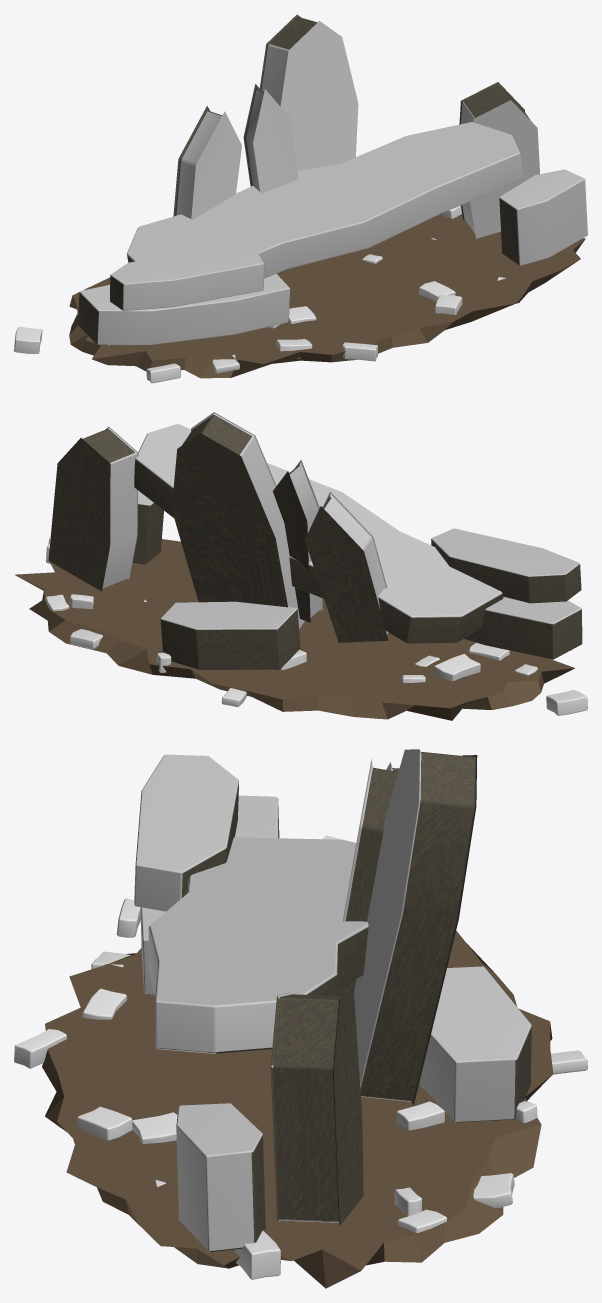
File: SM_GIA_BloodAxeCairnSlabCluster_A01_VolumeProjection.fbx
3 renders of one model, top to bottom at view 1: azimuth 30°, elevation 25°; view 2: azimuth 150°, elevation 25°; view 3: azimuth 270°, elevation 25°, orthographic. The views are drawn at different scales.
Visible parts, largest first — view 1: A1_Turnaround_AshMudBase, A1_Turnaround_MainFallenPaintedSlab, A1_Turnaround_RearTallBrokenSlab, A1_Turnaround_LeftFrontStackBase, A1_Turnaround_LeftFrontStackCap, A1_Turnaround_RightSupportStone, A1_Turnaround_LeftRearShard, A1_Turnaround_RightRawhideUpright, A1_Turnaround_CenterNarrowShard, A1_Turnaround_Pebble_41, A1_Turnaround_Pebble_36, A1_Turnaround_Pebble_20; view 2: A1_Turnaround_AshMudBase, A1_Turnaround_RearTallBrokenSlab, A1_Turnaround_MainFallenPaintedSlab, A1_Turnaround_RightRawhideUpright, A1_Turnaround_BackRootStone, A1_Turnaround_LeftRearShard, A1_Turnaround_LeftFrontStackCap, A1_Turnaround_LeftFrontStackBase, A1_Turnaround_CenterNarrowShard, A1_Turnaround_RightSupportStone, A1_Turnaround_Pebble_41, A1_Turnaround_Pebble_29 (+2 smaller); view 3: A1_Turnaround_AshMudBase, A1_Turnaround_MainFallenPaintedSlab, A1_Turnaround_RearTallBrokenSlab, A1_Turnaround_RightRawhideUpright, A1_Turnaround_BackRootStone, A1_Turnaround_LeftFrontStackCap, A1_Turnaround_RightSupportStone, A1_Turnaround_CenterNarrowShard, A1_Turnaround_LeftFrontStackBase, A1_Turnaround_Pebble_32, A1_Turnaround_Pebble_42, A1_Turnaround_Pebble_36 (+7 smaller).
Part boxes in pixels (x1,y1,x2,y2): A1_Turnaround_AshMudBase: (69, 213, 585, 378); A1_Turnaround_MainFallenPaintedSlab: (127, 122, 524, 278); A1_Turnaround_RearTallBrokenSlab: (259, 14, 358, 171); A1_Turnaround_LeftFrontStackBase: (78, 273, 290, 344); A1_Turnaround_LeftFrontStackCap: (110, 249, 264, 310); A1_Turnaround_RightSupportStone: (499, 169, 587, 265); A1_Turnaround_LeftRearShard: (173, 106, 241, 220); A1_Turnaround_RightRawhideUpright: (459, 82, 539, 238); A1_Turnaround_CenterNarrowShard: (243, 84, 298, 194); A1_Turnaround_Pebble_41: (14, 326, 42, 353); A1_Turnaround_Pebble_36: (342, 342, 377, 361); A1_Turnaround_Pebble_20: (146, 363, 180, 383); A1_Turnaround_AshMudBase: (14, 539, 575, 720); A1_Turnaround_RearTallBrokenSlab: (171, 412, 304, 628); A1_Turnaround_MainFallenPaintedSlab: (134, 423, 503, 643); A1_Turnaround_RightRawhideUpright: (48, 426, 138, 591); A1_Turnaround_BackRootStone: (160, 601, 300, 669); A1_Turnaround_LeftRearShard: (305, 491, 388, 642); A1_Turnaround_LeftFrontStackCap: (431, 528, 581, 603); A1_Turnaround_LeftFrontStackBase: (464, 597, 582, 659); A1_Turnaround_CenterNarrowShard: (272, 460, 323, 622); A1_Turnaround_RightSupportStone: (133, 490, 163, 564); A1_Turnaround_Pebble_41: (546, 690, 587, 715); A1_Turnaround_Pebble_29: (434, 654, 480, 680); A1_Turnaround_AshMudBase: (42, 930, 553, 1288); A1_Turnaround_MainFallenPaintedSlab: (148, 837, 368, 1053); A1_Turnaround_RearTallBrokenSlab: (353, 749, 477, 1105); A1_Turnaround_RightRawhideUpright: (270, 992, 363, 1225); A1_Turnaround_BackRootStone: (419, 966, 531, 1122); A1_Turnaround_LeftFrontStackCap: (134, 754, 238, 911); A1_Turnaround_RightSupportStone: (176, 1103, 265, 1252); A1_Turnaround_CenterNarrowShard: (338, 759, 398, 996); A1_Turnaround_LeftFrontStackBase: (140, 795, 279, 994); A1_Turnaround_Pebble_32: (234, 1230, 280, 1279); A1_Turnaround_Pebble_42: (77, 1106, 132, 1140); A1_Turnaround_Pebble_36: (14, 1029, 66, 1068).
Bounding box in the file's own units: 20379 × 35829 × 14650.
